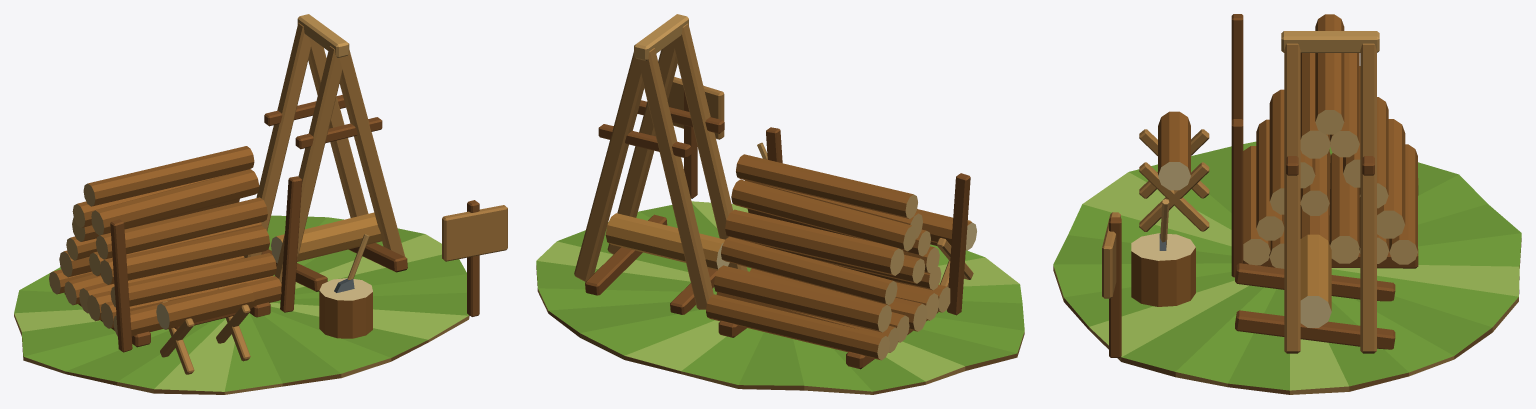
3 views of the same model, side by side, from view 1: azimuth 30°, elevation 25°; view 2: azimuth 150°, elevation 25°; view 3: azimuth 270°, elevation 25° (orthographic). The views are drawn at different scales.
Visible parts, largest first — view 1: WK_LoggingCamp_LOD2_Compact; view 2: WK_LoggingCamp_LOD2_Compact; view 3: WK_LoggingCamp_LOD2_Compact.
Boxes of the visible parts, x1,y1,x2,y2 form: WK_LoggingCamp_LOD2_Compact: (14, 14, 507, 394); WK_LoggingCamp_LOD2_Compact: (536, 14, 1024, 394); WK_LoggingCamp_LOD2_Compact: (1053, 14, 1521, 394).
Size of the model in its own units: 12.46 by 6.67 by 9.66.
